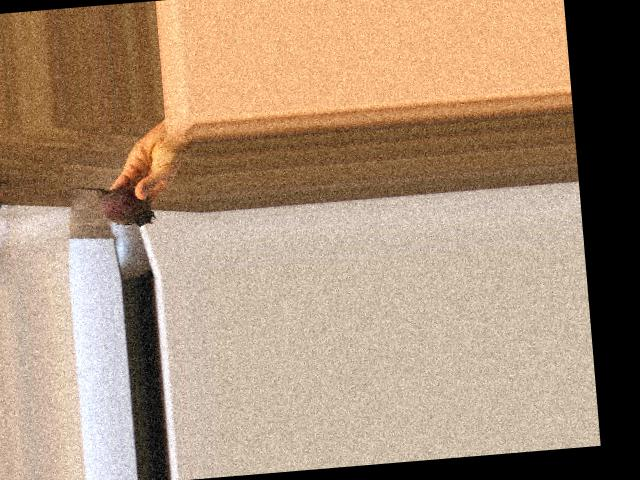beet: (58, 181, 154, 232)
